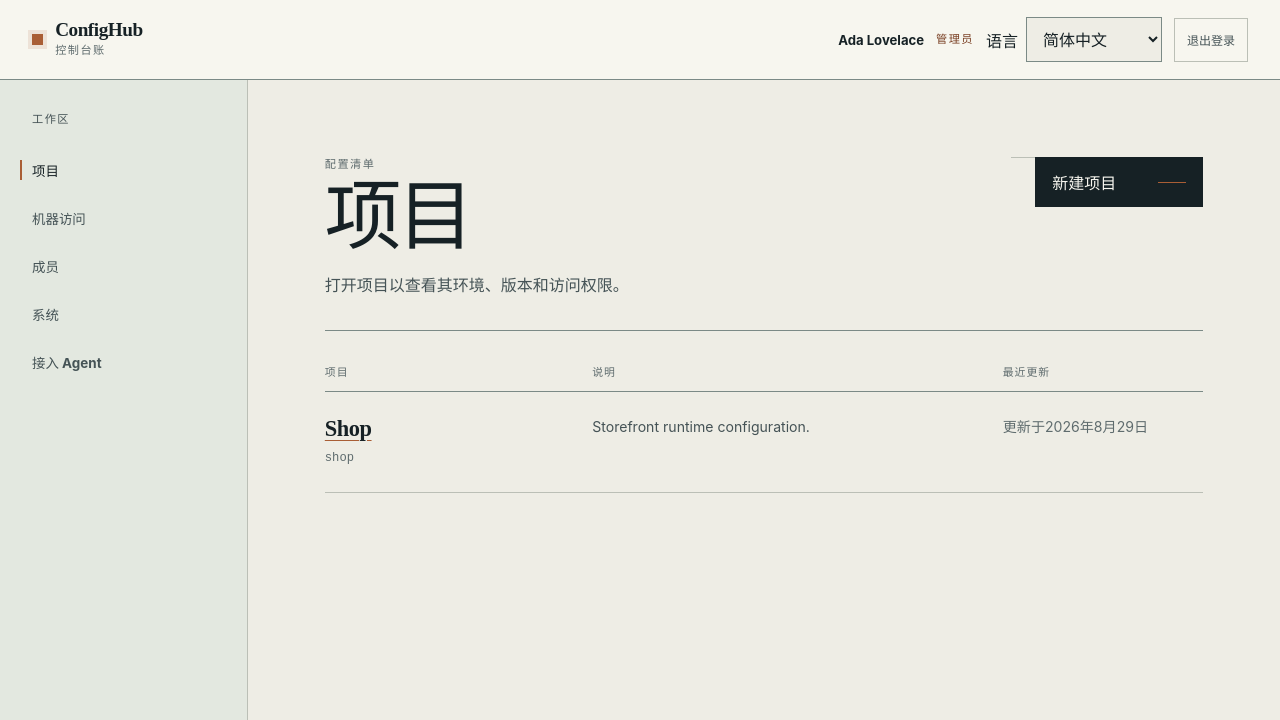
Test: ProjectsPage › renders and creates projects in Simplified Chinese without translating data
Expected: the heading "项目" is shown, [325,176,470,260]
Click the button "新建项目" at (1119, 182), box [1035,157,1203,207]
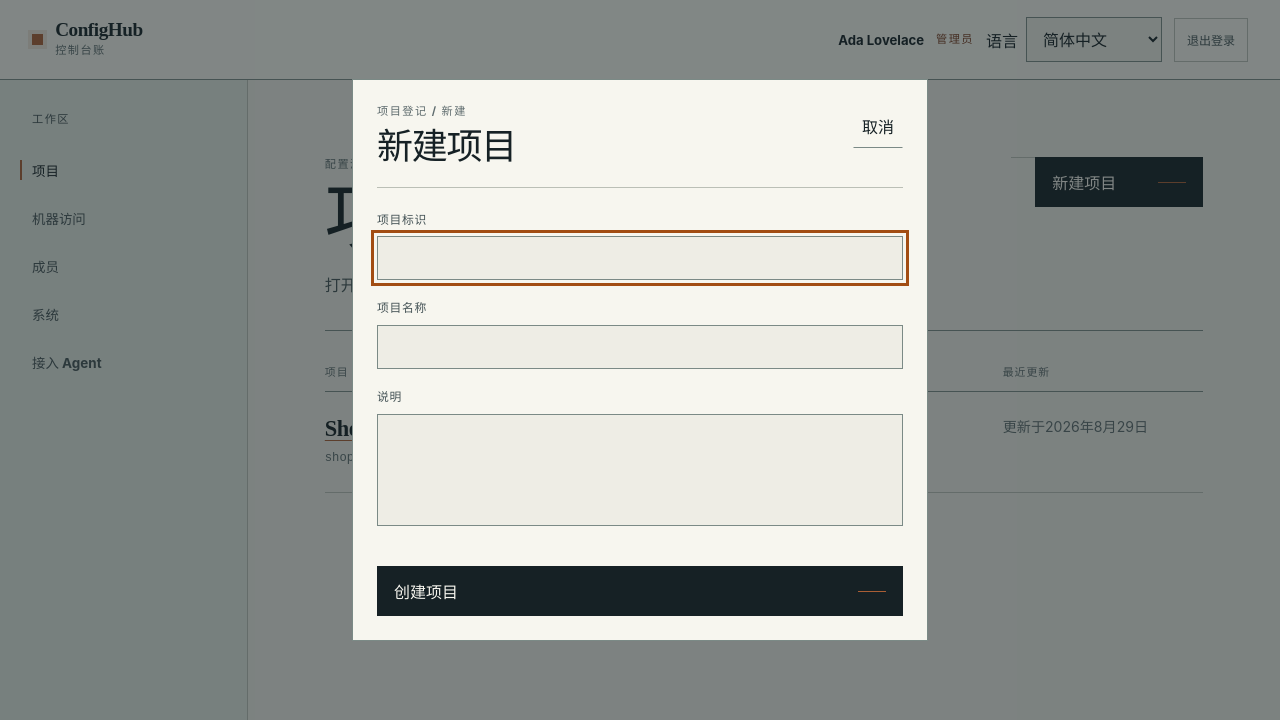
Expected: the field labelled "项目标识" is shown, [377,236,903,280]
